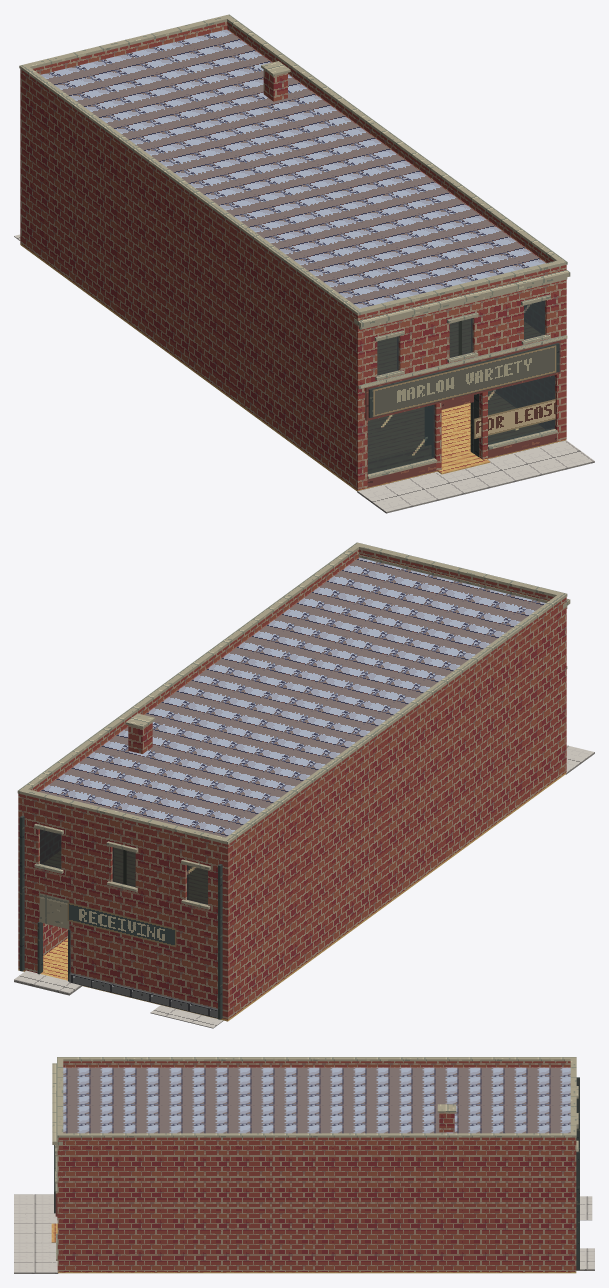
File: marlow-closed-far.glb
3 renders of one model, top to bottom at view 1: azimuth 30°, elevation 25°; view 2: azimuth 150°, elevation 25°; view 3: azimuth 270°, elevation 25°, orthographic. The views are drawn at different scales.
Parts seen in each view (by area): view 1: building_shell, roof_and_parapet, Shared street sidewalk, sign_name, sign_for_lease; view 2: building_shell, roof_and_parapet, sign_receiving, Rear receiving pad, lot; view 3: building_shell, roof_and_parapet, Shared street sidewalk, Rear receiving pad, lot.
Boxes of the visible parts, x1,y1,x2,y2 form: building_shell: [20, 29, 567, 491]; roof_and_parapet: [19, 14, 570, 329]; Shared street sidewalk: [357, 440, 594, 513]; sign_name: [373, 345, 556, 416]; sign_for_lease: [474, 399, 555, 438]; building_shell: [18, 557, 567, 1021]; roof_and_parapet: [17, 542, 570, 854]; sign_receiving: [67, 902, 176, 947]; Rear receiving pad: [14, 970, 81, 995]; lot: [150, 1005, 223, 1028]; building_shell: [51, 1067, 579, 1273]; roof_and_parapet: [52, 1057, 576, 1147]; Shared street sidewalk: [14, 1194, 58, 1273]; Rear receiving pad: [576, 1248, 594, 1270]; lot: [580, 1196, 592, 1220].
Size of what is drawn, in the model's own units: 10.05 by 9.06 by 31.36.
10 materials, 10 textured.
